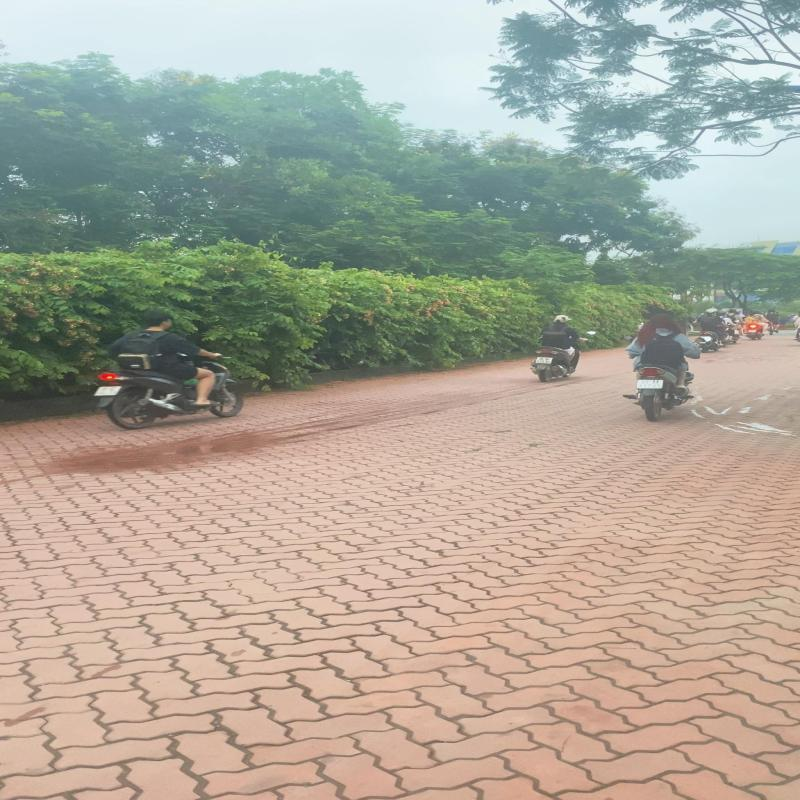licenseplate: (94, 386, 121, 396), (636, 380, 664, 389)
motorcyclist: (93, 311, 246, 430), (619, 313, 713, 421)
nohelmet: (145, 312, 172, 328), (648, 314, 674, 328)
